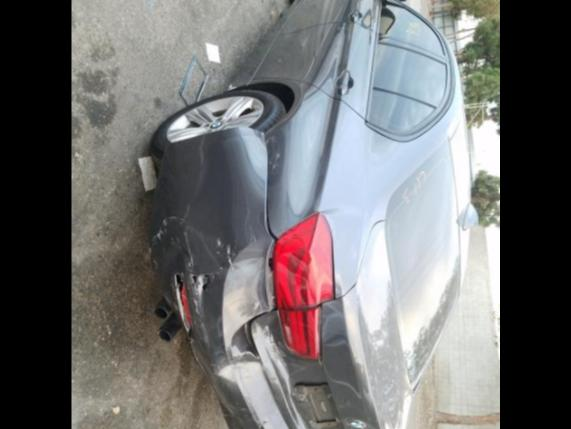Broken part: (149, 126, 297, 429), (187, 342, 228, 429), (175, 270, 194, 338), (266, 241, 278, 310)
Cracked: (174, 271, 194, 331), (197, 273, 210, 291)
Dent: (254, 305, 371, 429), (151, 215, 202, 332), (210, 346, 259, 381), (195, 227, 237, 267), (209, 372, 240, 422)
Missing part: (298, 387, 338, 426)
Paint chip: (227, 83, 238, 89), (258, 421, 265, 429), (262, 421, 270, 423)
Scratch: (183, 232, 210, 345), (148, 204, 190, 268), (251, 321, 288, 380), (266, 135, 280, 173), (225, 243, 235, 270), (211, 362, 228, 373), (170, 234, 183, 248), (235, 404, 248, 411), (254, 297, 261, 310), (216, 235, 223, 247), (216, 249, 223, 258)
